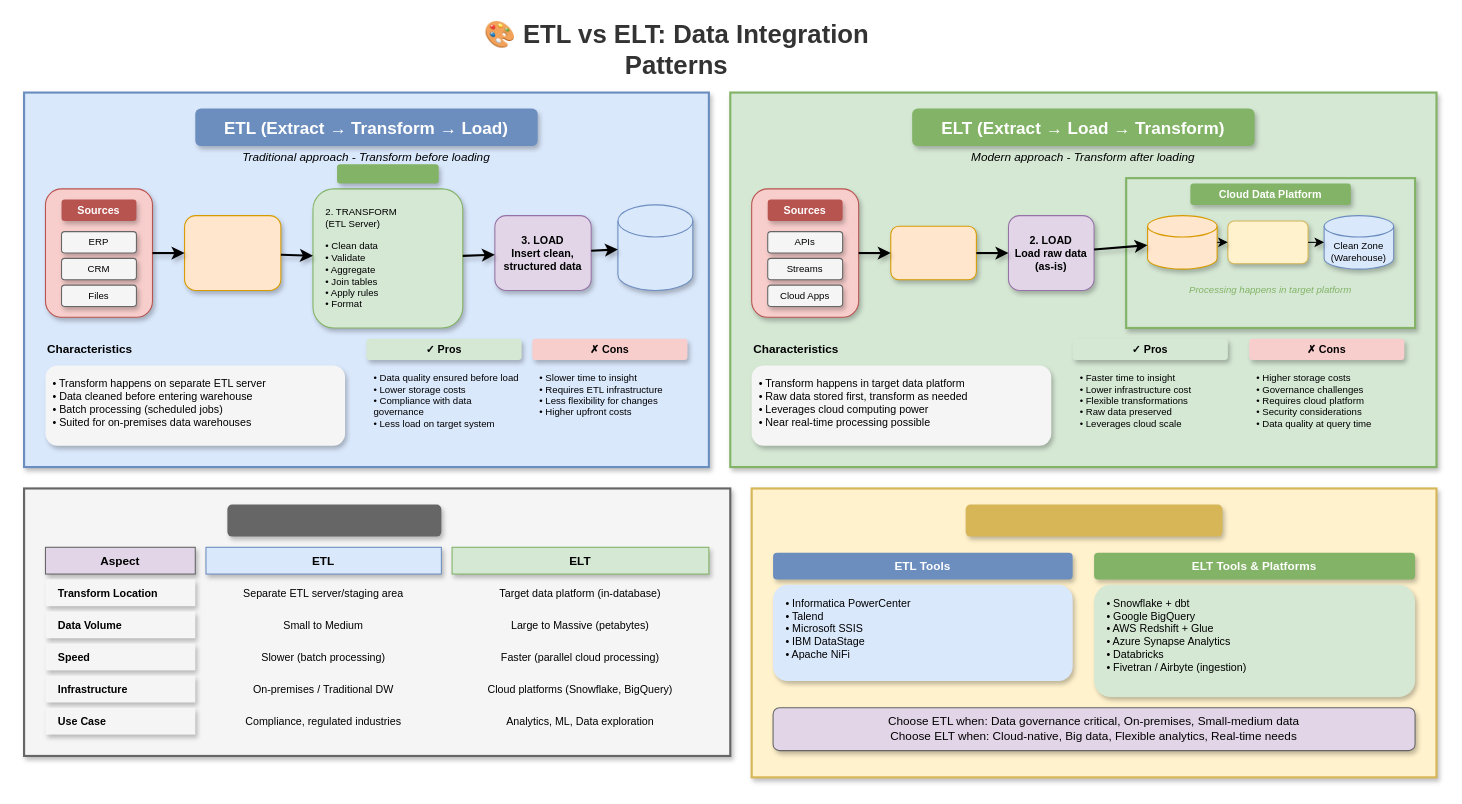
Some shapes in this 1462 by 804 pixel diagram are drawn without their labels. The shapes that lost their labels are listed below. From the top down, each one's centre as x and y in pixels, then its label:
At (x=388, y=174): "Heavy Processing".
At (x=233, y=254): "1. EXTRACT Pull raw data from sources".
At (x=656, y=249): "Data Warehouse".
At (x=934, y=254): "1. EXTRACT Pull raw data".
At (x=1183, y=243): "Raw Zone (Data Lake)".
At (x=1268, y=243): "3. TRANSFORM In-place SQL".
At (x=335, y=522): "ETL vs ELT Comparison".
At (x=1094, y=522): "Popular Tools & Platforms".
